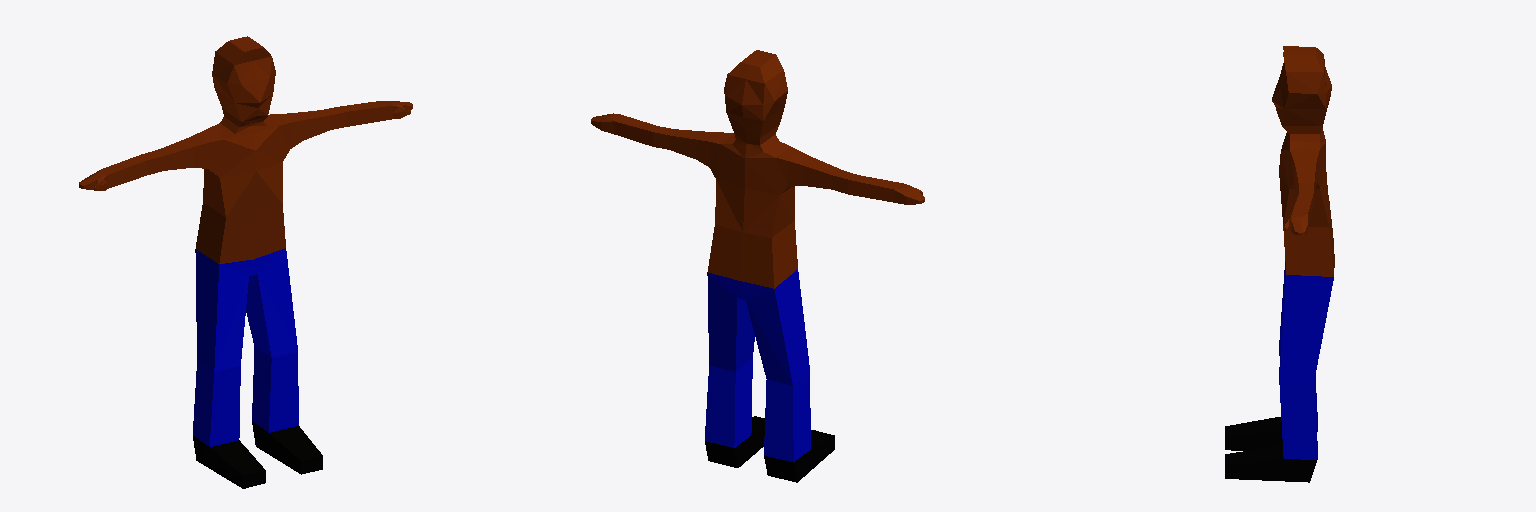
The model's file is player.obj.
The picture shows the model from 3 angles: view 1: azimuth 30°, elevation 25°; view 2: azimuth 150°, elevation 25°; view 3: azimuth 270°, elevation 25°; orthographic projection.
Visible parts, largest first — view 1: Cube.001; view 2: Cube.001; view 3: Cube.001.
Part boxes in pixels (bbox=[...]): Cube.001: bbox=[79, 36, 412, 488]; Cube.001: bbox=[591, 50, 924, 482]; Cube.001: bbox=[1225, 46, 1334, 482].
Size of the model in its own units: 16.33 by 19.27 by 4.66.